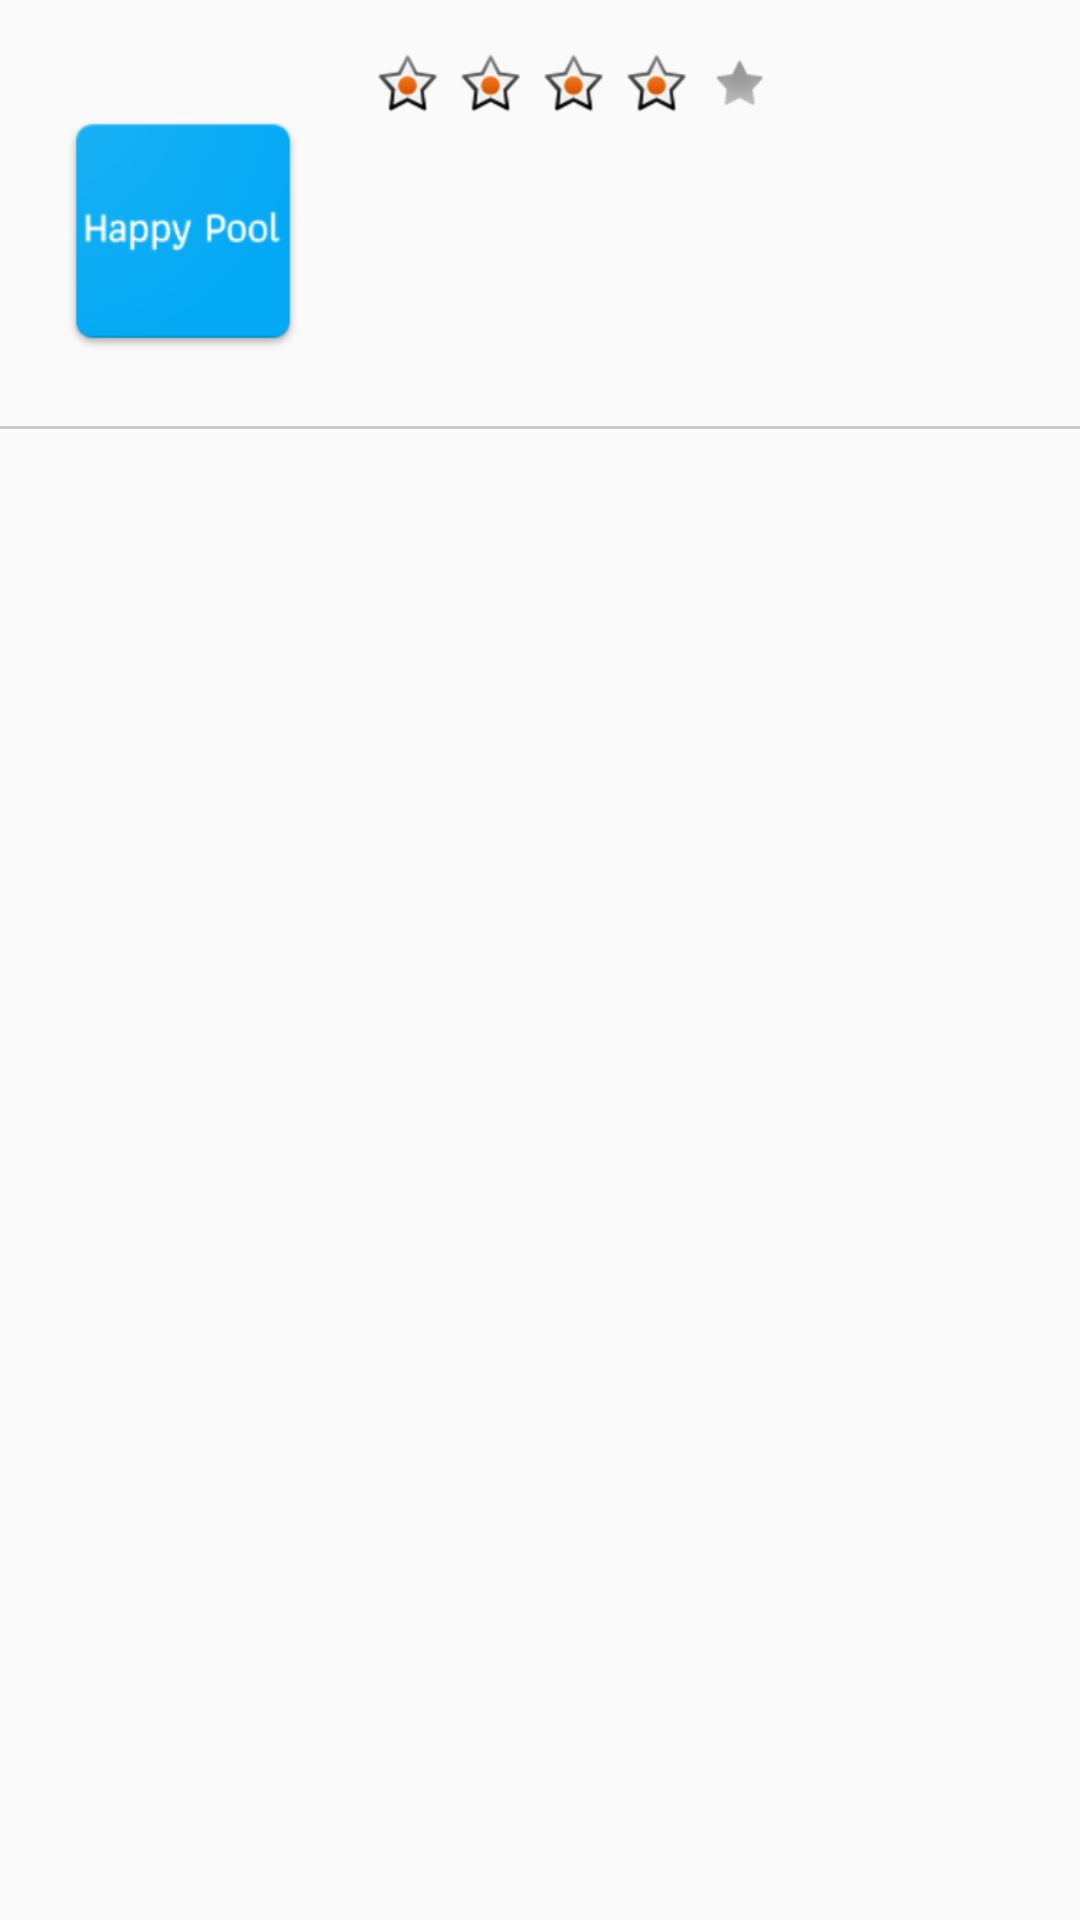

Named icons in this screenshot (1080*1920) and their bounding boxes, (x1, y1, x2, y2):
star off: (717, 60, 763, 105)
star on: (378, 55, 437, 111), (461, 55, 520, 111), (544, 55, 603, 111), (627, 55, 686, 111)
